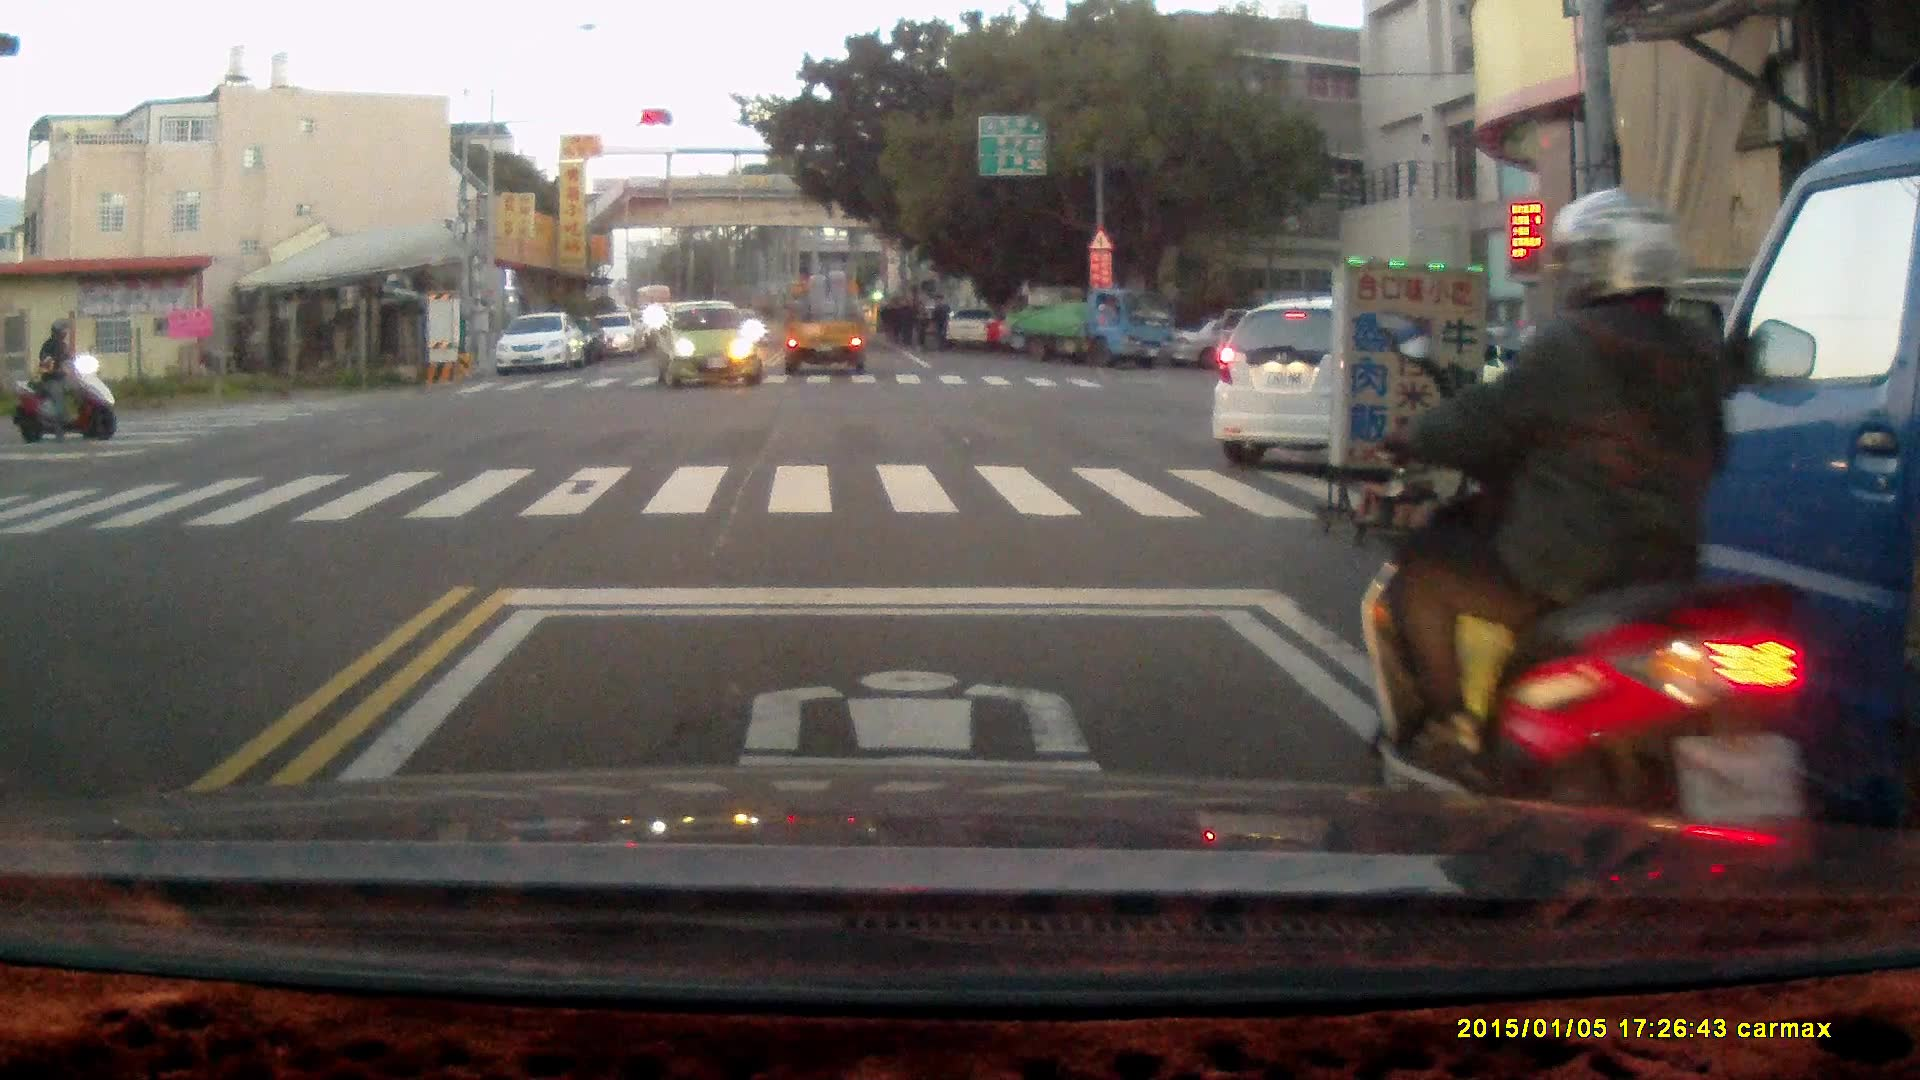rider: (1355, 182, 1813, 904), (10, 316, 119, 440)
vehicle: (1600, 132, 1920, 918), (1207, 293, 1520, 466), (1002, 284, 1175, 367), (661, 296, 768, 391), (786, 269, 871, 382), (498, 313, 587, 377), (592, 311, 642, 360)
